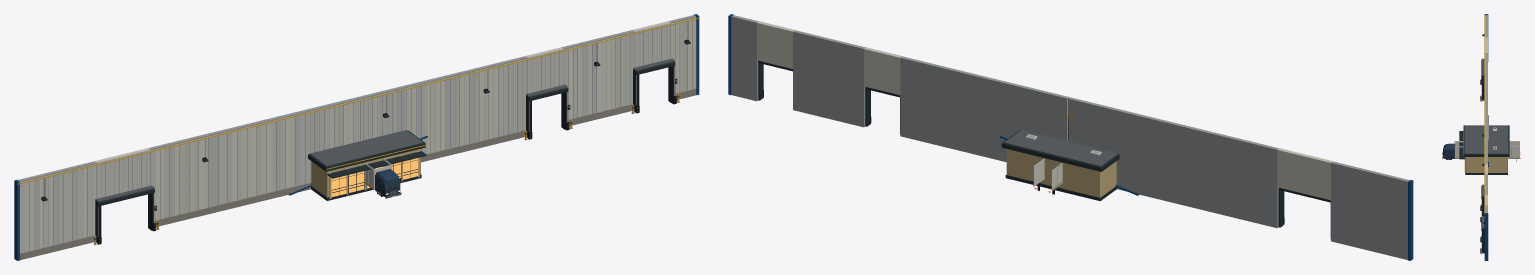
Rendered from donpepe-industrial-v1.glb.
The picture shows the model from 3 angles, left to right: view 1: azimuth 30°, elevation 25°; view 2: azimuth 150°, elevation 25°; view 3: azimuth 270°, elevation 25°; orthographic projection. The views are drawn at different scales.
Parts seen in each view (by area): view 1: DepotFront · paint, DepotFront · stucco, DepotFront · frame, StoreArcade · metal, StoreArcade · frame, DepotFront · amber, StoreArcade · glass_warm, StoreArcade · stucco, DepotFront · roof, DepotFront · black, DepotFront · metal, DeliveryCab · cab; view 2: DepotFront · paint, StoreArcade · stucco, StoreArcade · metal, StoreArcade · frame, DepotFront · frame, DepotFront · roof, TrailerSides · white; view 3: StoreArcade · metal, StoreArcade · stucco, DepotFront · paint, StoreArcade · frame, TrailerSides · white, DepotFront · frame, DepotFront · roof, DepotFront · amber, DeliveryCab · cab, DepotFront · metal, StoreCorner · frame, StoreStreet · frame (+2 smaller).
Part boxes in pixels (x1,y1,x2,y2): DepotFront · paint: (18,15,696,253); DepotFront · stucco: (19,88,696,260); DepotFront · frame: (41,41,690,242); StoreArcade · metal: (310,130,423,195); StoreArcade · frame: (308,130,425,200); DepotFront · amber: (17,17,699,244); StoreArcade · glass_warm: (331,158,418,197); StoreArcade · stucco: (311,148,420,198); DepotFront · roof: (14,14,699,260); DepotFront · black: (41,39,688,244); DepotFront · metal: (44,21,688,202); DeliveryCab · cab: (375,169,400,196); DepotFront · paint: (731,15,1409,259); StoreArcade · stucco: (1006,149,1116,197); StoreArcade · metal: (1004,130,1117,166); StoreArcade · frame: (1001,130,1119,201); DepotFront · frame: (758,60,1330,238); DepotFront · roof: (728,14,1413,260); TrailerSides · white: (1033,158,1062,190); StoreArcade · metal: (1464,125,1508,153); StoreArcade · stucco: (1465,157,1507,172); DepotFront · paint: (1485,15,1487,212); StoreArcade · frame: (1461,125,1509,174); TrailerSides · white: (1454,141,1519,157); DepotFront · frame: (1480,34,1484,253); DepotFront · roof: (1484,14,1488,260); DepotFront · amber: (1481,15,1484,253); DeliveryCab · cab: (1443,143,1455,158); DepotFront · metal: (1482,58,1484,228); StoreCorner · frame: (1460,131,1464,159); StoreStreet · frame: (1459,131,1464,159).
Bounding box in the file's own units: 102 × 12.22 × 16.83.
